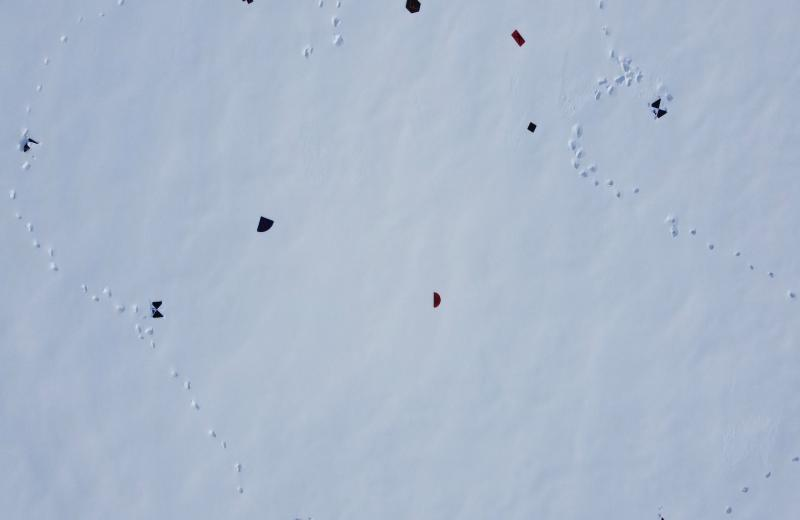Hexagon: (404, 0, 421, 14)
Quarter Circle: (255, 215, 275, 234)
Rectangle: (512, 28, 526, 48)
Semi Circle: (431, 290, 443, 308)
Square: (526, 120, 538, 134)
